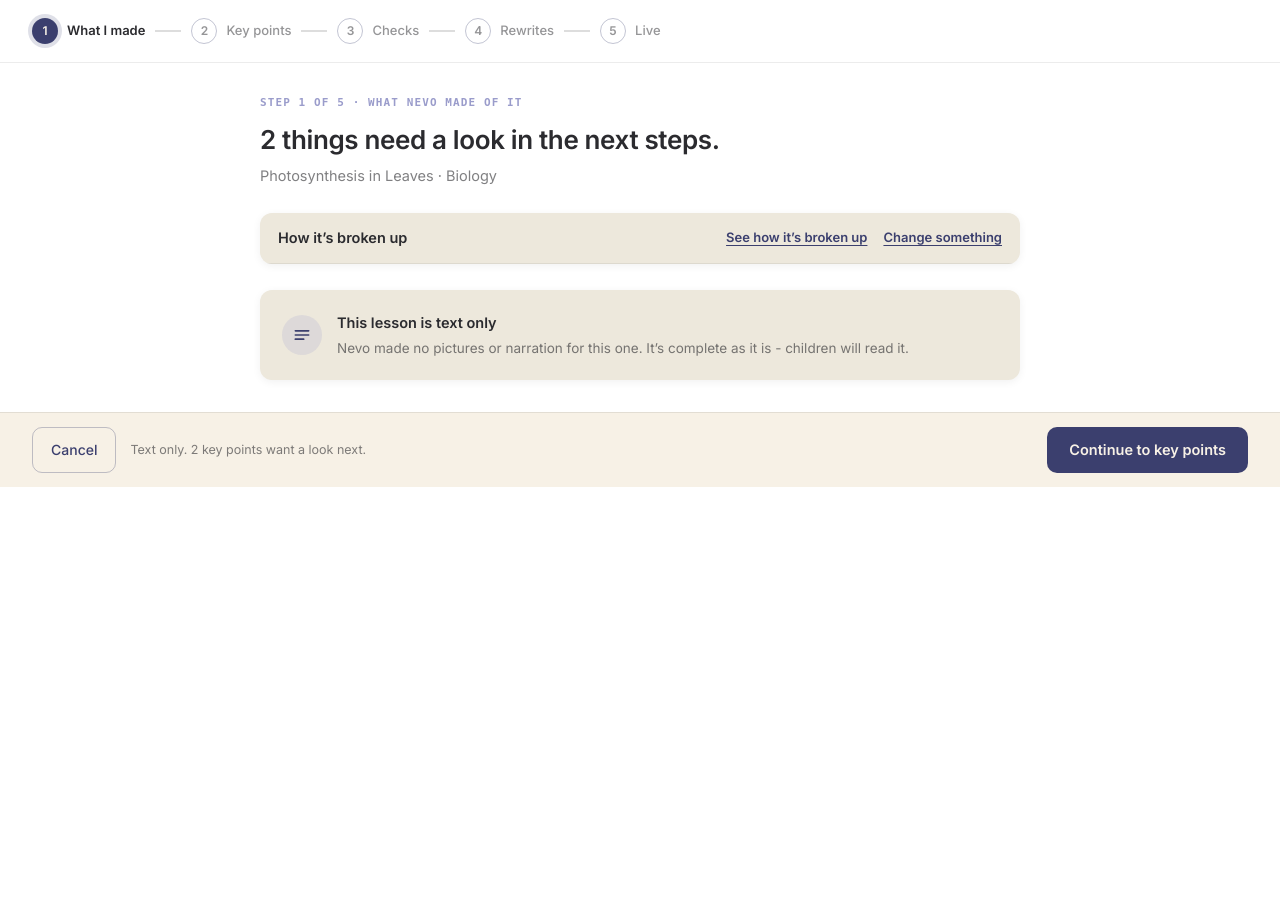
Test case: four screens, not one page › takes the teacher to the flagged ones in one press
Expected: the navigation bar named "Lesson review steps" is shown, [0,0,1279,63]
Click the button "Continue to key points".
click(1148, 450)  # box [1047,427,1248,473]
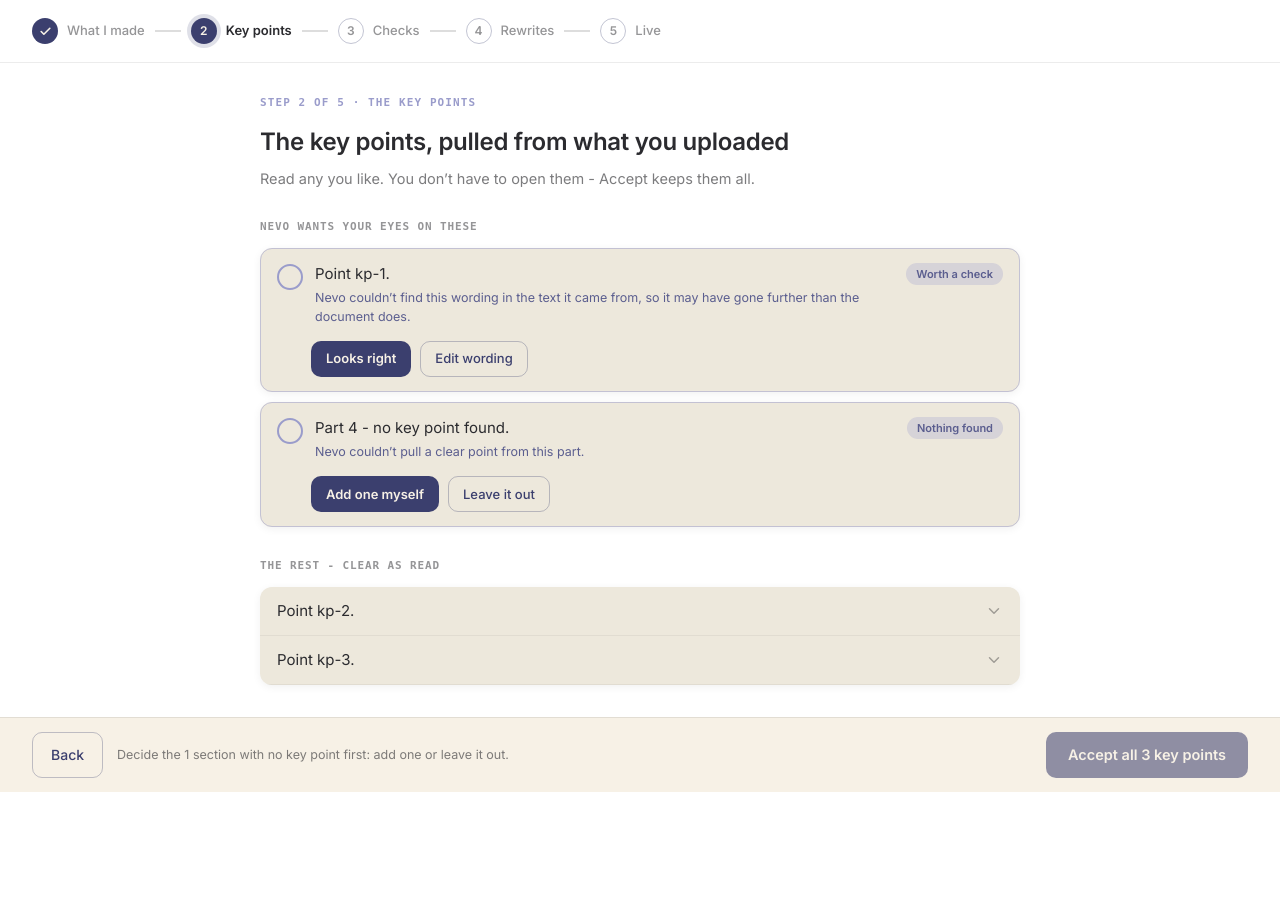
Now the text "Step 2 of 5 · the key points" is shown, box [260,96,476,109]
